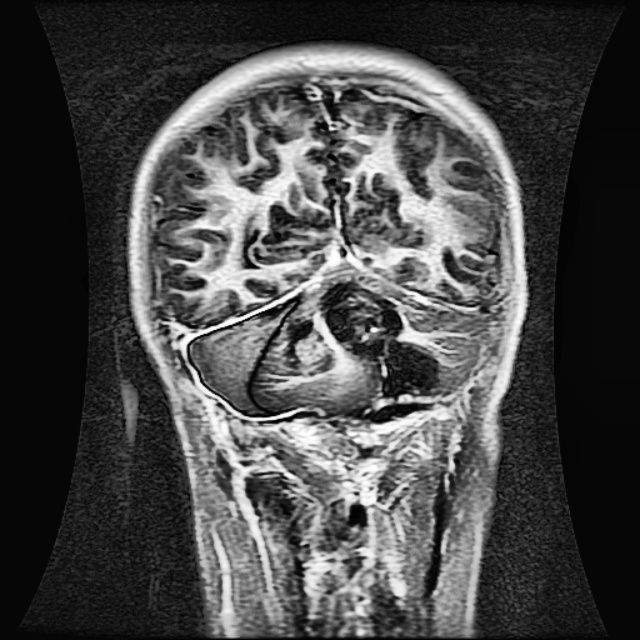Meningioma: (322, 279, 437, 399)
